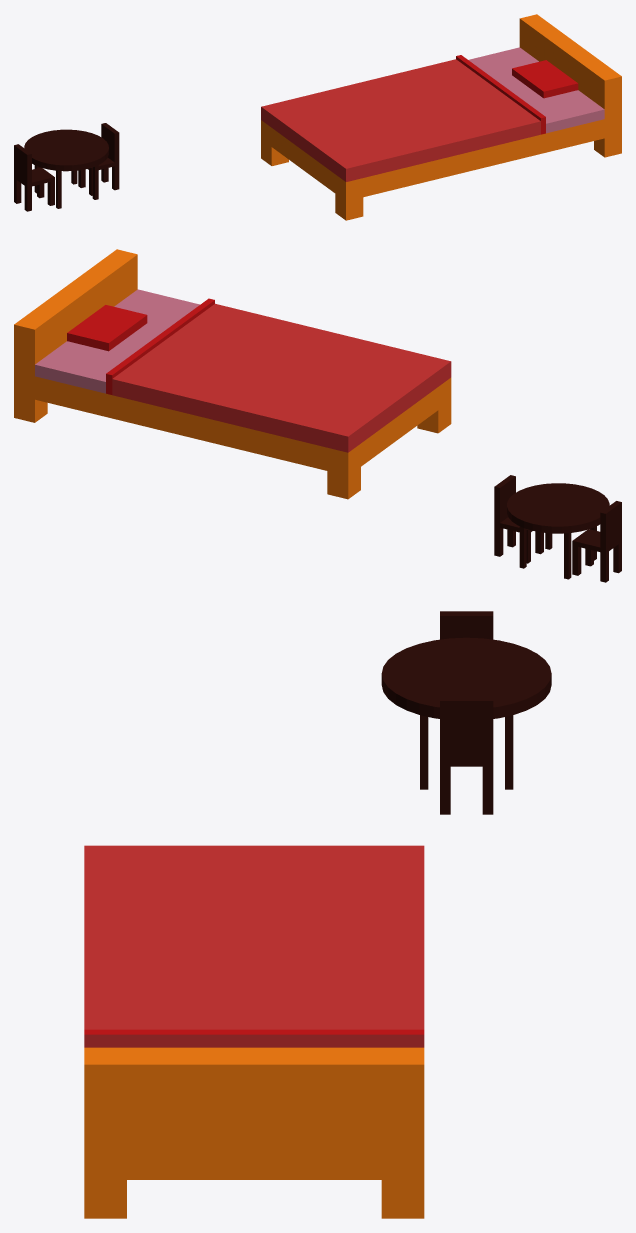
File: bed.obj
The picture shows the model from 3 angles, top to bottom: view 1: azimuth 30°, elevation 25°; view 2: azimuth 150°, elevation 25°; view 3: azimuth 270°, elevation 25°; orthographic projection. The views are drawn at different scales.
Visible parts, largest first — view 1: Cube.004_Cube, Cylinder_Cylinder.001, Cube.006, Cube.005; view 2: Cube.004_Cube, Cylinder_Cylinder.001, Cube.006, Cube.005; view 3: Cube.004_Cube, Cylinder_Cylinder.001, Cube.005, Cube.006.
Part boxes in pixels (x1,y1,x2,y2): Cube.004_Cube: (261, 14, 621, 220); Cylinder_Cylinder.001: (24, 129, 108, 171); Cube.006: (14, 144, 54, 211); Cube.005: (78, 123, 119, 195); Cube.004_Cube: (14, 249, 451, 499); Cylinder_Cylinder.001: (507, 483, 609, 533); Cube.006: (572, 501, 621, 582); Cube.005: (494, 475, 543, 563); Cube.004_Cube: (84, 845, 424, 1218); Cylinder_Cylinder.001: (381, 637, 551, 718); Cube.005: (440, 696, 493, 814); Cube.006: (440, 611, 493, 639).
Size of the model in its own units: 55 by 8 by 22.
